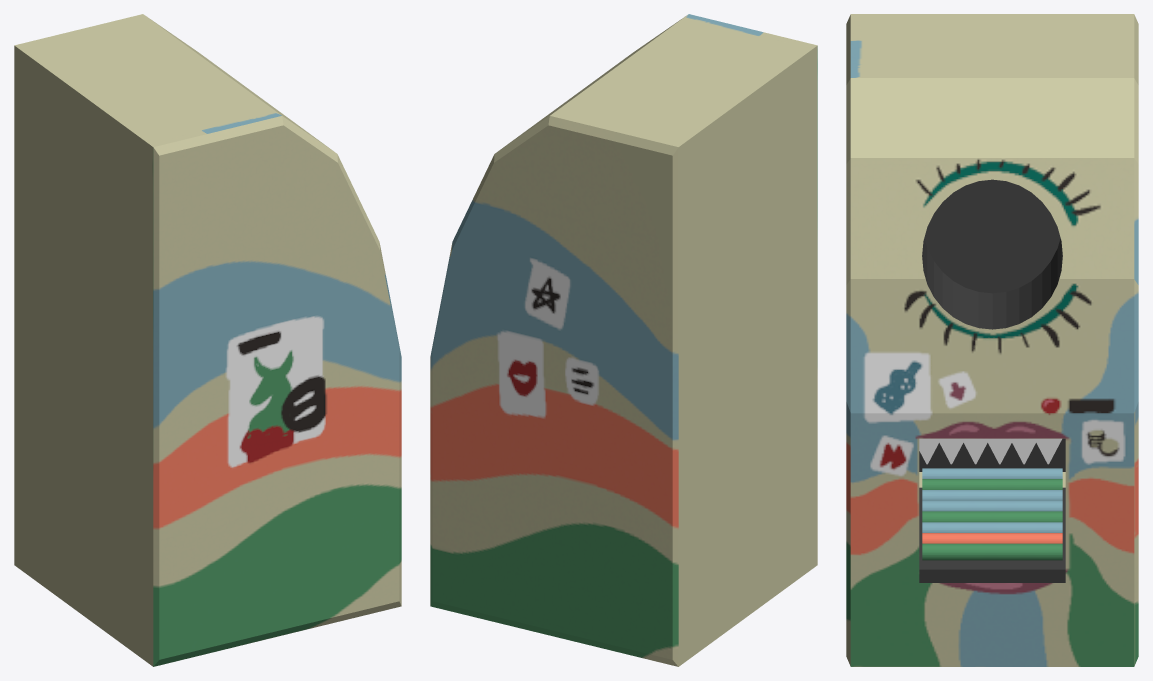
File: Pfandautomat.fbx
3 views of the same model, side by side, from view 1: azimuth 30°, elevation 25°; view 2: azimuth 150°, elevation 25°; view 3: azimuth 270°, elevation 25° (orthographic).
Visible parts, largest first — view 1: Automat; view 2: Automat; view 3: Automat.
Part boxes in pixels (x1=…): Automat: x1=14, y1=14, x2=401, y2=666; Automat: x1=430, y1=14, x2=817, y2=666; Automat: x1=846, y1=14, x2=1138, y2=666.
Bounding box in the file's own units: 110 × 200 × 100.
1 material, 1 textured.
